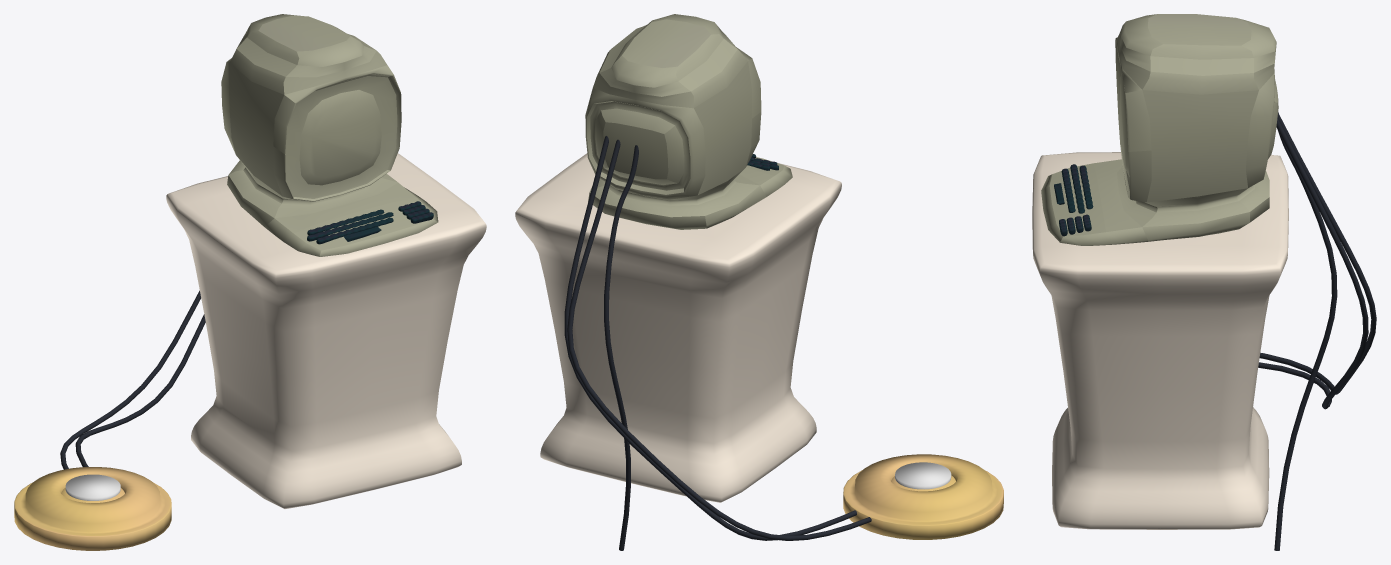
Rendered from Terminal_3.fbx.
The picture shows the model from 3 angles, left to right: view 1: azimuth 30°, elevation 25°; view 2: azimuth 150°, elevation 25°; view 3: azimuth 270°, elevation 25°; orthographic projection. The views are drawn at different scales.
Visible parts, largest first — view 1: PC.3, Desktop.3, Light.3; view 2: PC.3, Light.3; view 3: PC.3, Desktop.3.
Part boxes in pixels (x1=…): PC.3: x1=14, y1=14, x2=486, y2=550; Desktop.3: x1=299, y1=90, x2=381, y2=185; Light.3: x1=65, y1=474, x2=120, y2=500; PC.3: x1=515, y1=14, x2=1003, y2=550; Light.3: x1=895, y1=462, x2=951, y2=489; PC.3: x1=1032, y1=14, x2=1376, y2=550; Desktop.3: x1=1119, y1=74, x2=1129, y2=176.
Size of the model in its own units: 189 by 206 by 123.
